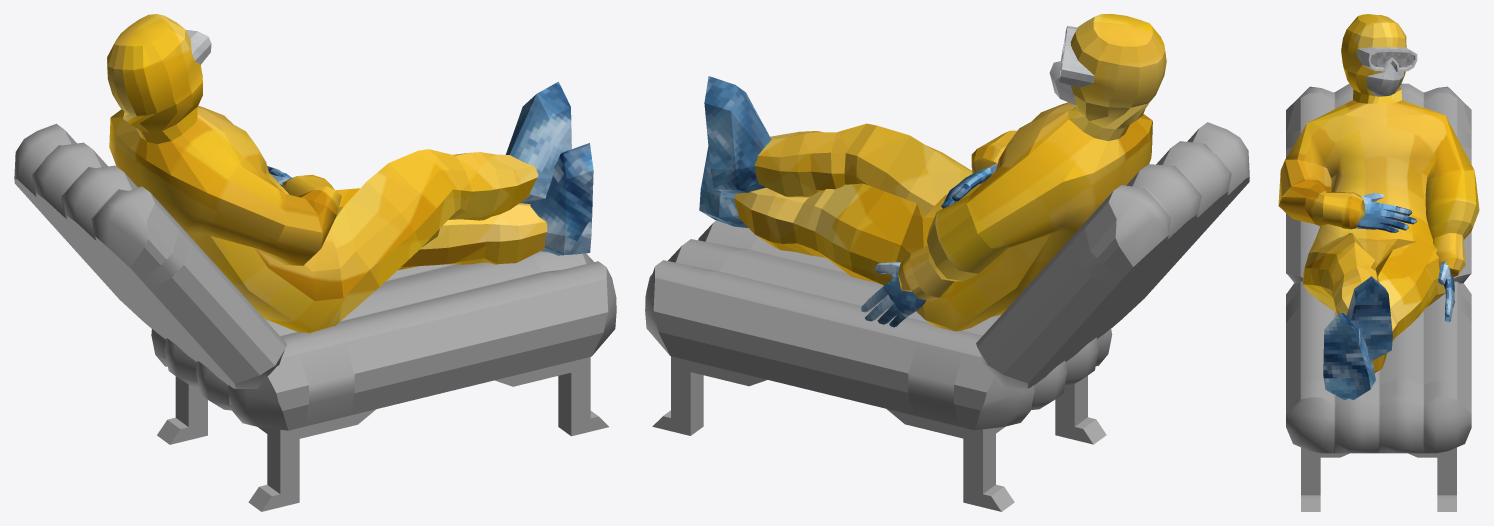
Rendered from StartScreen_01.fbx.
The picture shows the model from 3 angles, left to right: view 1: azimuth 30°, elevation 25°; view 2: azimuth 150°, elevation 25°; view 3: azimuth 270°, elevation 25°; orthographic projection. The views are drawn at different scales.
Parts seen in each view (by area): view 1: polySurface1, pCube2, pCube3, pCube4; view 2: polySurface1, pCube2, pCube3, pCube4; view 3: polySurface1, pCube2, pCube3, pCube4.
Part boxes in pixels (bbox=[...]): polySurface1: bbox=[107, 14, 593, 333]; pCube2: bbox=[151, 251, 616, 430]; pCube3: bbox=[14, 123, 286, 388]; pCube4: bbox=[157, 357, 608, 511]; polySurface1: bbox=[699, 14, 1166, 331]; pCube2: bbox=[645, 220, 1112, 430]; pCube3: bbox=[976, 122, 1249, 388]; pCube4: bbox=[652, 356, 1106, 511]; polySurface1: bbox=[1278, 14, 1479, 399]; pCube2: bbox=[1286, 281, 1471, 453]; pCube3: bbox=[1286, 83, 1471, 283]; pCube4: bbox=[1301, 447, 1456, 511].
Bounding box in the file's own units: 1.52 × 1.3 × 0.682.
